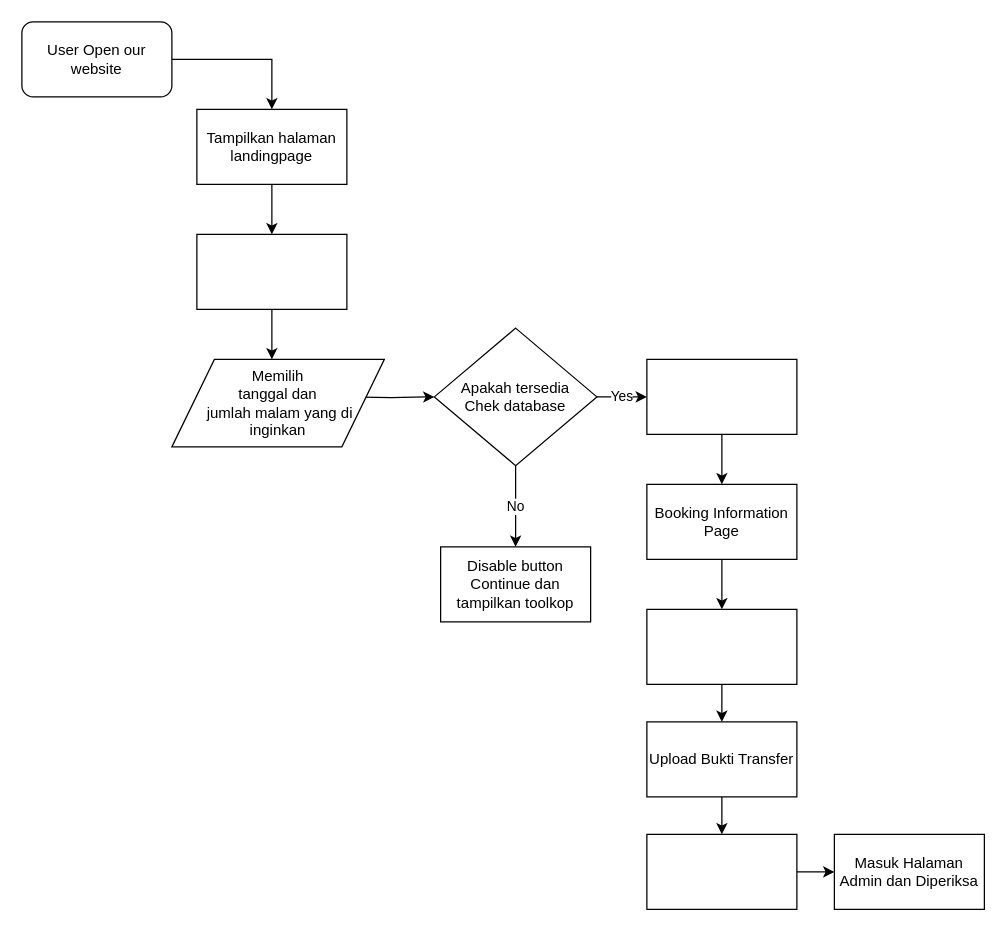
Image size: 1006x931. Some labels were removed from this diagram. Each missing label, with the box of its shape:
Button Confitmation Pembayaran: (646, 833, 797, 909)
melakukan transfer: (646, 608, 797, 684)
memilih rumah yang talah disediakan: (196, 233, 347, 309)
Tampilkan Button Continue: (646, 358, 797, 434)
